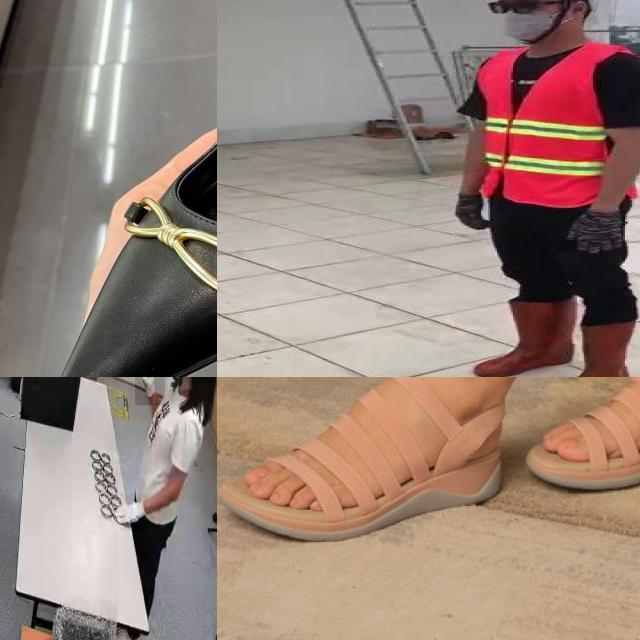Sandals: (17, 0, 217, 377), (221, 377, 508, 543), (523, 377, 640, 491)
boots: (474, 299, 572, 377), (545, 319, 639, 377)
face_mask: (484, 0, 566, 43)
glasses: (484, 0, 553, 18)
hand_glove: (561, 211, 637, 252), (449, 191, 495, 231), (120, 494, 148, 532), (135, 377, 165, 405)
person: (448, 0, 640, 377), (118, 377, 217, 640)
vest: (477, 44, 640, 205)
